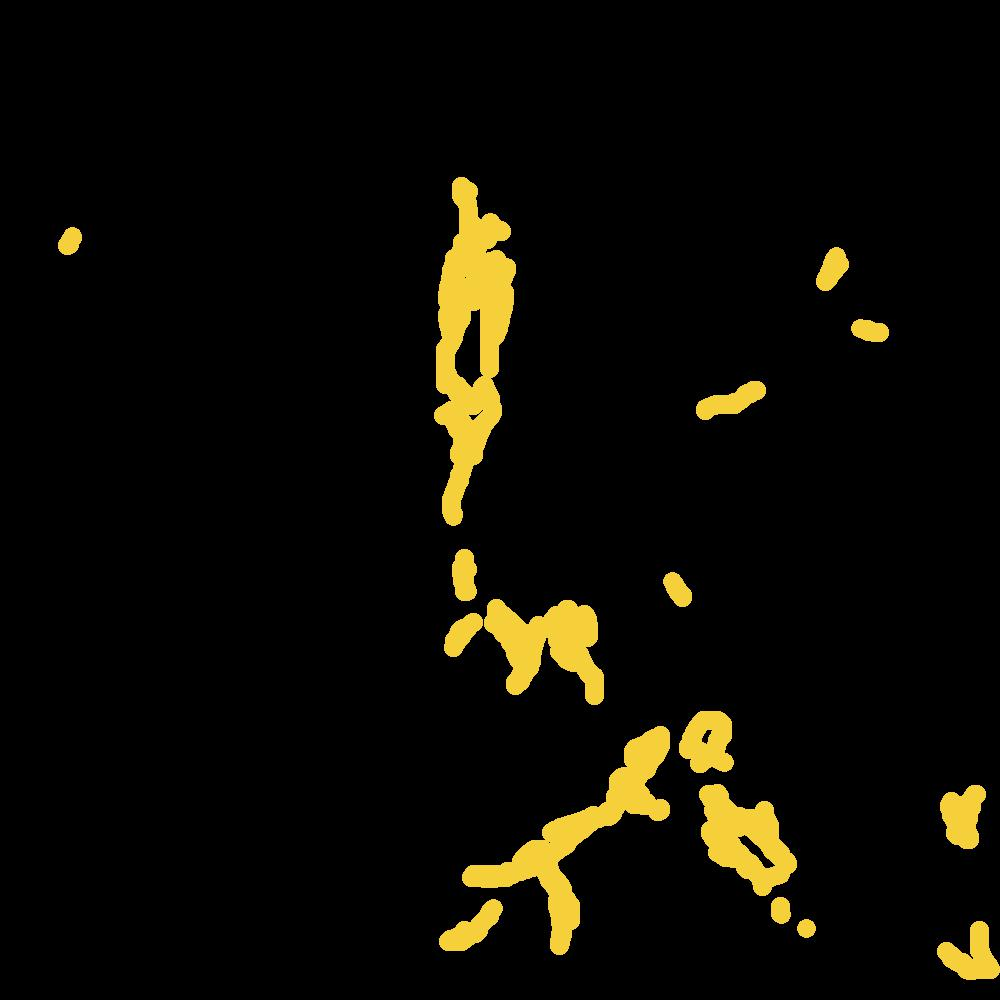legal: (483, 715, 731, 881), (711, 809, 814, 936), (494, 605, 602, 692), (436, 358, 497, 471), (478, 217, 518, 369), (929, 917, 1000, 1000), (441, 176, 477, 318), (824, 252, 882, 339), (428, 905, 496, 958), (935, 786, 984, 840), (546, 881, 575, 946), (701, 384, 766, 409), (450, 616, 476, 645), (455, 550, 475, 587), (443, 486, 460, 512), (641, 988, 663, 1000)
